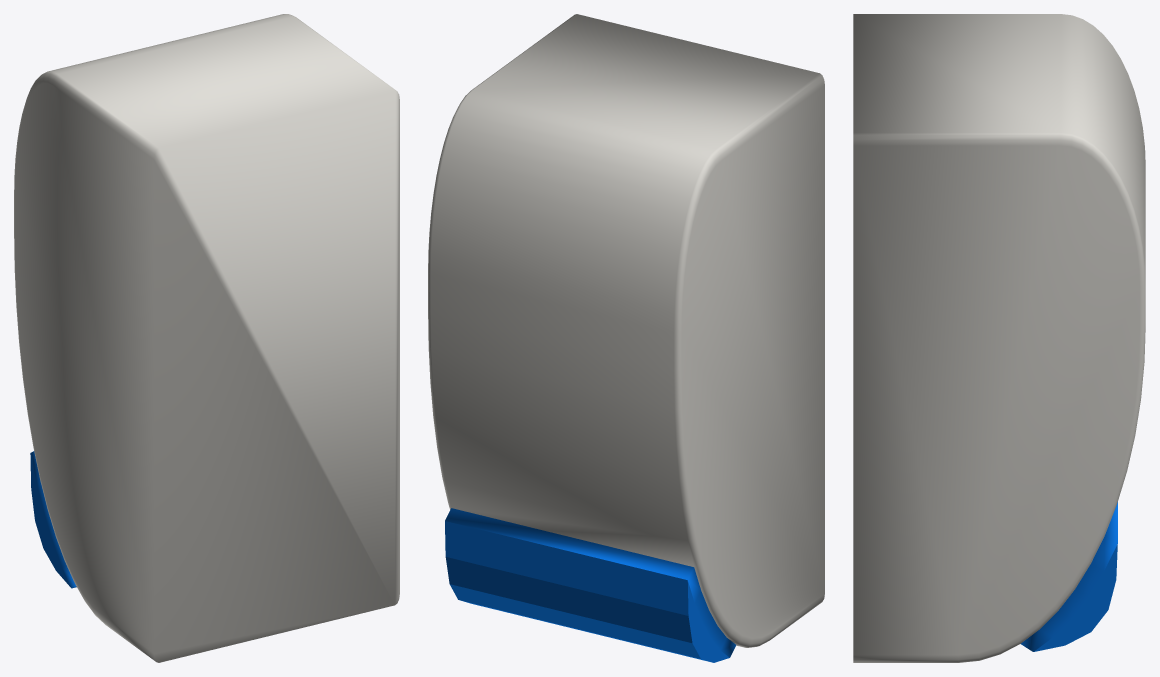
The model's file is Seifenspender.fbx.
The picture shows the model from 3 angles, left to right: view 1: azimuth 30°, elevation 25°; view 2: azimuth 150°, elevation 25°; view 3: azimuth 270°, elevation 25°; orthographic projection. The views are drawn at different scales.
Visible parts, largest first — view 1: Seifenspender; view 2: Seifenspender; view 3: Seifenspender.
Boxes of the visible parts, box(x1,y1,x2,y2) form: Seifenspender: box(14, 14, 399, 662); Seifenspender: box(428, 14, 824, 662); Seifenspender: box(853, 14, 1145, 662).
Bounding box in the file's own units: 10 × 20 × 10.
